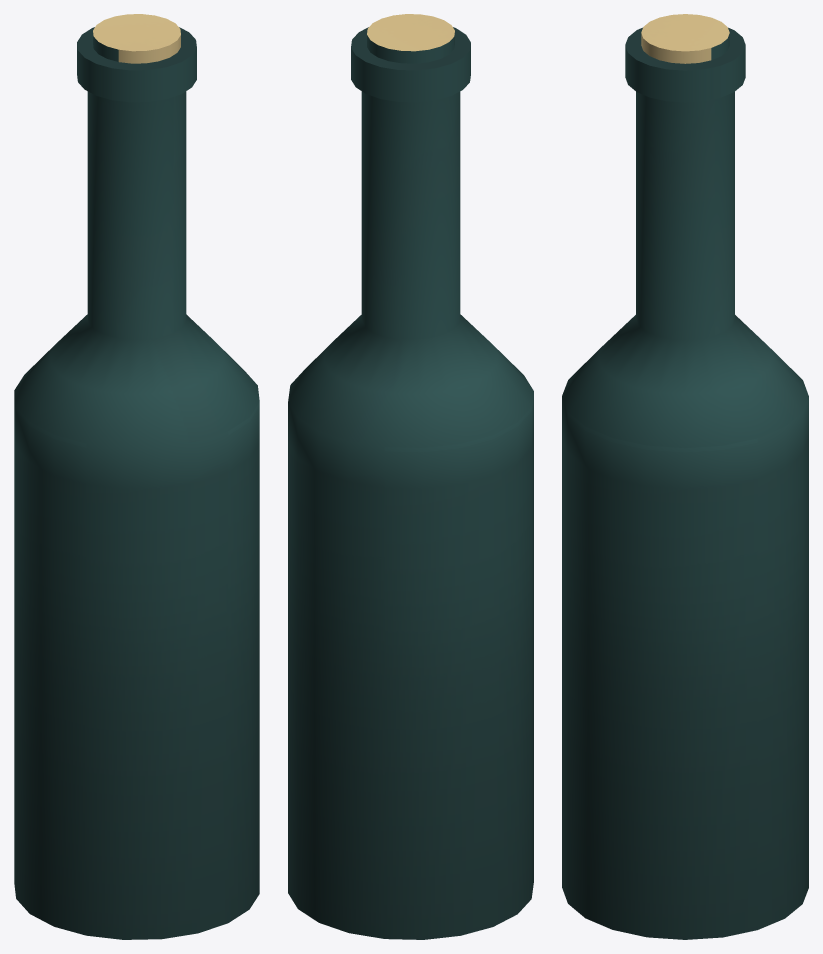
Rendered from bouteille3.fbx.
3 renders of one model, left to right at view 1: azimuth 30°, elevation 25°; view 2: azimuth 150°, elevation 25°; view 3: azimuth 270°, elevation 25°, orthographic.
Parts seen in each view (by area): view 1: bottle1; view 2: bottle1; view 3: bottle1.
Boxes of the visible parts, x1=… form: bottle1: x1=14, y1=14, x2=259, y2=939; bottle1: x1=288, y1=14, x2=533, y2=939; bottle1: x1=562, y1=14, x2=808, y2=939.
Bounding box in the file's own units: 10.66 × 40.73 × 10.66.
